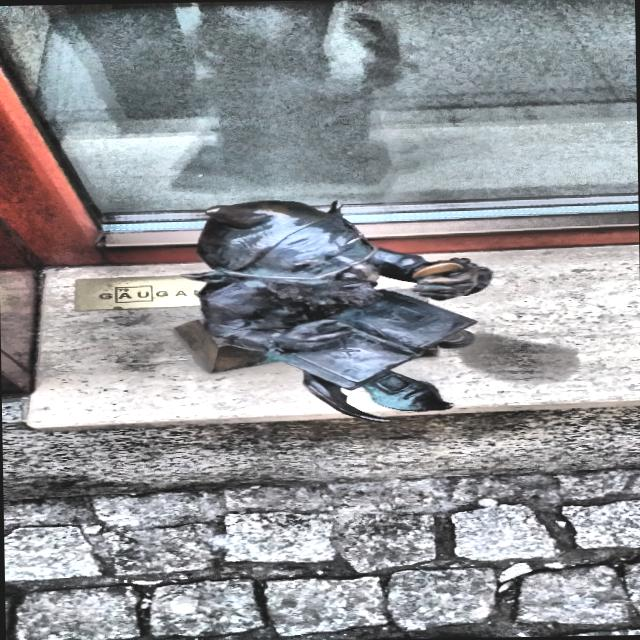Gaugan: (173, 201, 492, 423)
